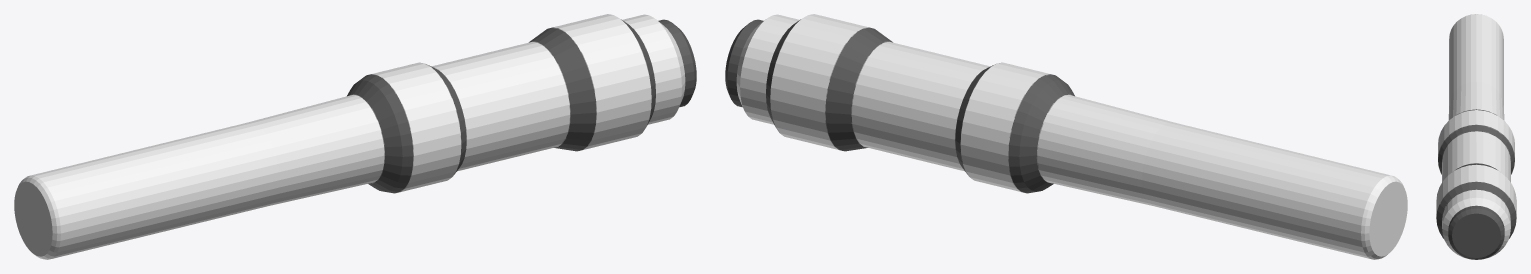
File: potato_cannon.glb
3 renders of one model, left to right at view 1: azimuth 30°, elevation 25°; view 2: azimuth 150°, elevation 25°; view 3: azimuth 270°, elevation 25°, orthographic. The views are drawn at different scales.
Visible parts, largest first — view 1: Cylinder; view 2: Cylinder; view 3: Cylinder.
Boxes of the visible parts, left/top/right/bottom form: Cylinder: left=14, top=14, right=696, bottom=259; Cylinder: left=725, top=14, right=1407, bottom=259; Cylinder: left=1436, top=14, right=1516, bottom=259.
Bounding box in the file's own units: 1.37 × 0.2338 × 0.2338.
Materials: 1 (1 with a texture image).
